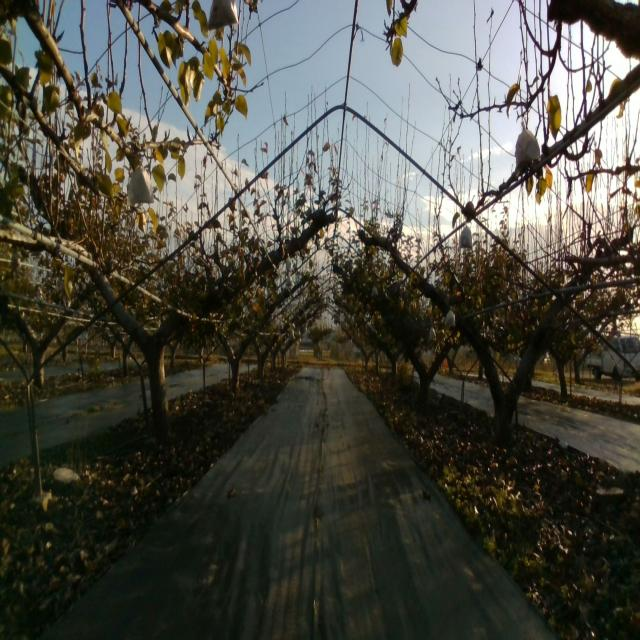pearbags: (514, 120, 541, 167), (126, 164, 154, 206), (458, 224, 474, 249), (444, 305, 456, 327)
